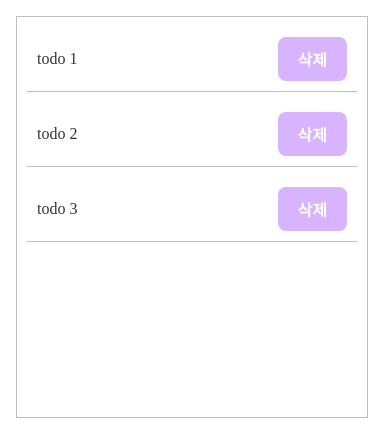
Test case: <TodoList /> › todoList 삭제 연동 테스트
Expected: the link "todo 2" is shown, [37,125,78,142]
What coordinates should you click on to do the following:
click the button "삭제" in the row of "todo 2"
I would click on:
 (312, 134)
Its box is [278,112,347,156].
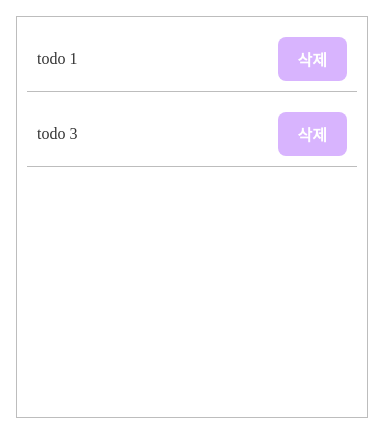
Now the link "todo 2" is gone
Now the link "todo 2" no longer shows "todo 2"
